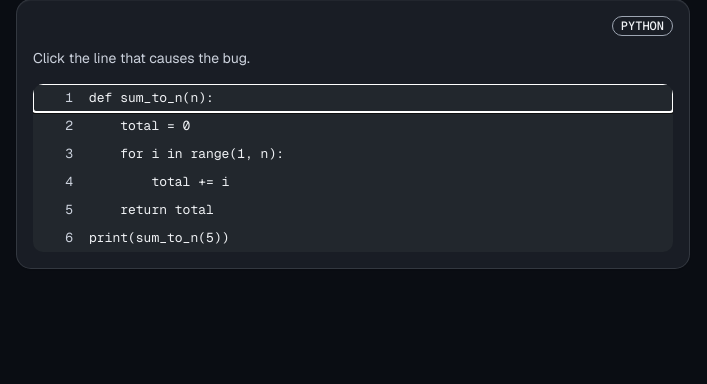
Test case: SpotTheBug › is correct when the clicked line is a bug line, and shows the explanation
Click the button "3 for i in range(1, n):": coordinates (187, 154) 33,140 -> 673,168
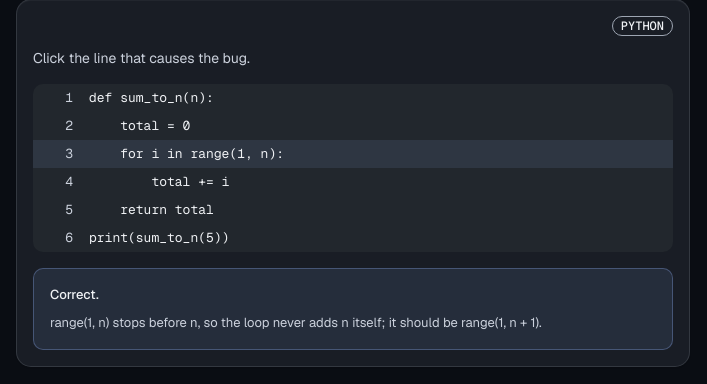
Result: the text "range(1, n) stops before n" is shown at 50,314 -> 542,331
